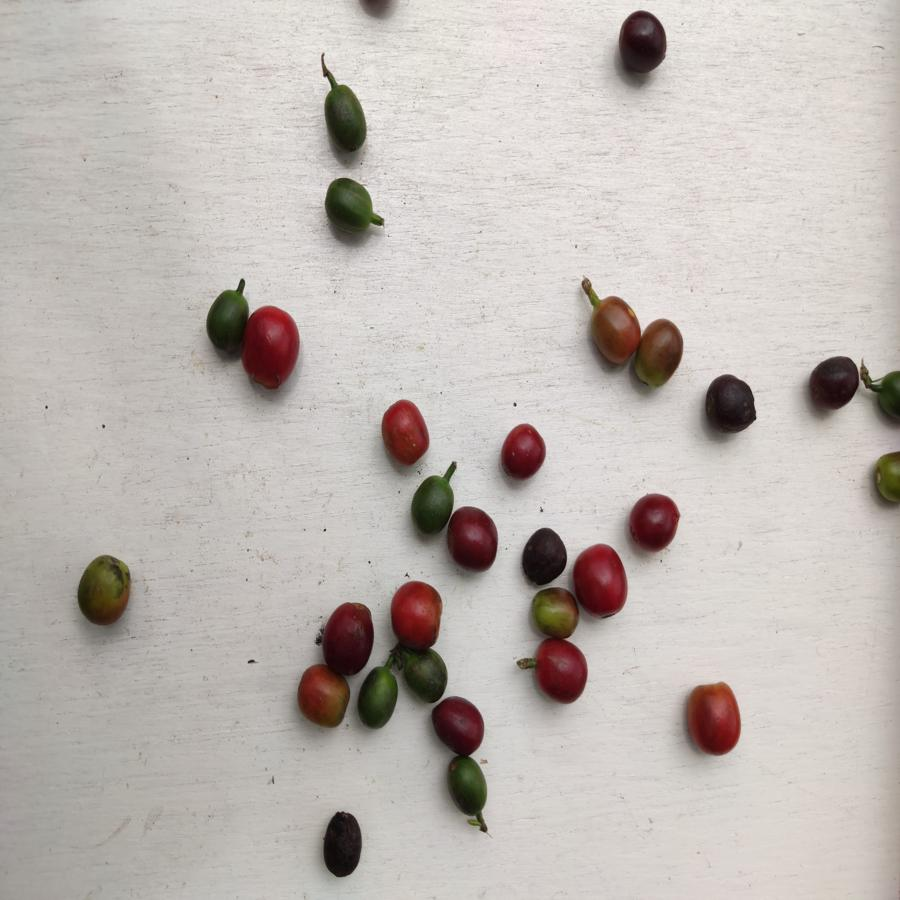Inmaduro: (324, 83, 370, 153), (324, 176, 376, 237), (444, 753, 490, 819), (205, 289, 246, 354), (355, 667, 396, 729), (410, 473, 449, 537), (401, 650, 448, 703)
Maduro: (242, 306, 302, 393), (685, 678, 748, 757), (575, 543, 630, 617), (530, 639, 592, 703), (390, 580, 443, 646), (380, 399, 431, 464), (499, 423, 552, 481)
Pinton: (74, 554, 135, 631), (587, 293, 644, 367), (632, 314, 684, 389), (293, 668, 353, 732), (528, 588, 584, 641)
Sobremaduro: (614, 8, 674, 76), (448, 505, 504, 573), (325, 601, 376, 671), (316, 810, 368, 878), (702, 372, 759, 434), (429, 697, 488, 754), (631, 492, 682, 551), (809, 353, 862, 408), (519, 524, 569, 580)
